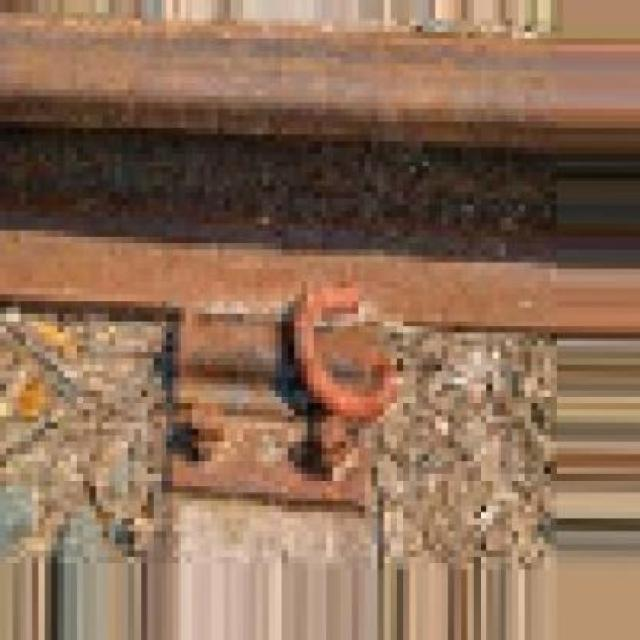defective: (0, 5, 640, 562)
